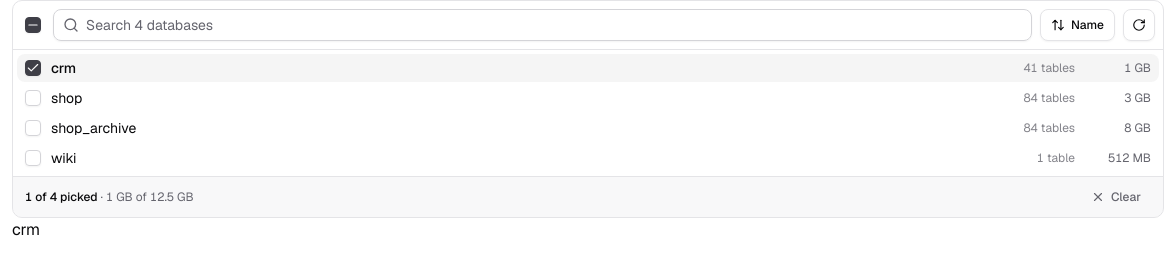
Scenario: database checklist › picks only what the search shows, and says how many picked ones it hides
Type "shop" into the field named "Search databases" at (542, 25), box [53,9,1032,41]
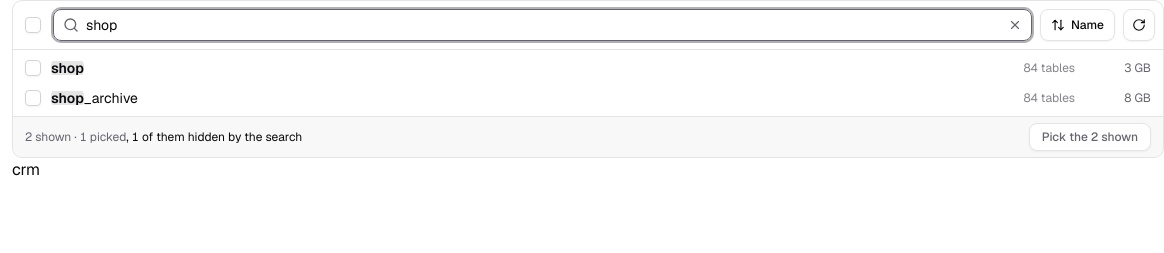
Now the number of list items is 2, box [17,54,1159,82]; [17,84,1159,112]
Now the text "2 shown · 1 picked, 1 of them hidden by the search" is shown, box [25,129,302,145]
Click the button "Pick the 2 shown" at (1090, 137), box [1029,123,1151,151]
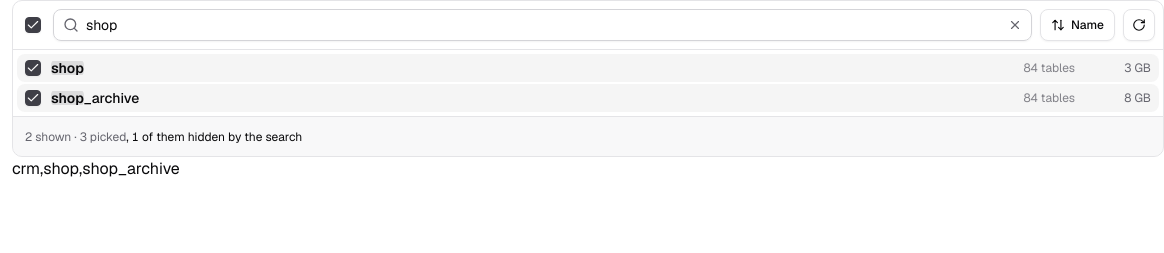
Now the text with test id "value" reads "crm,shop,shop_archive", box [12,158,180,179]
